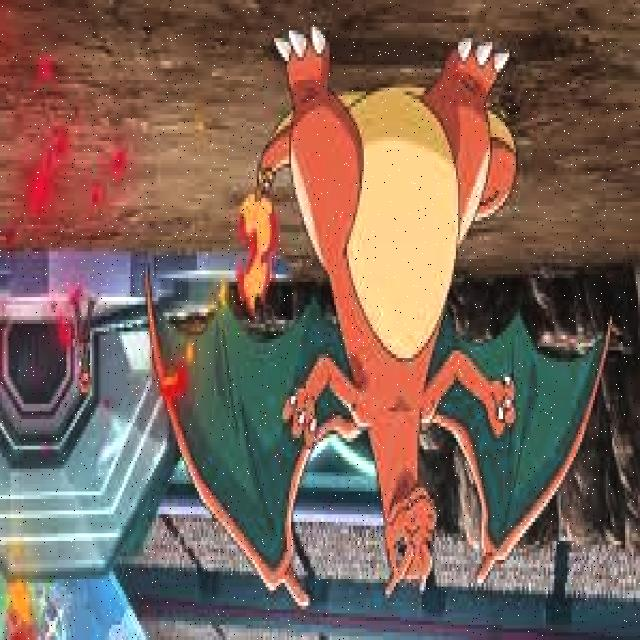charizard: (143, 27, 613, 612)
